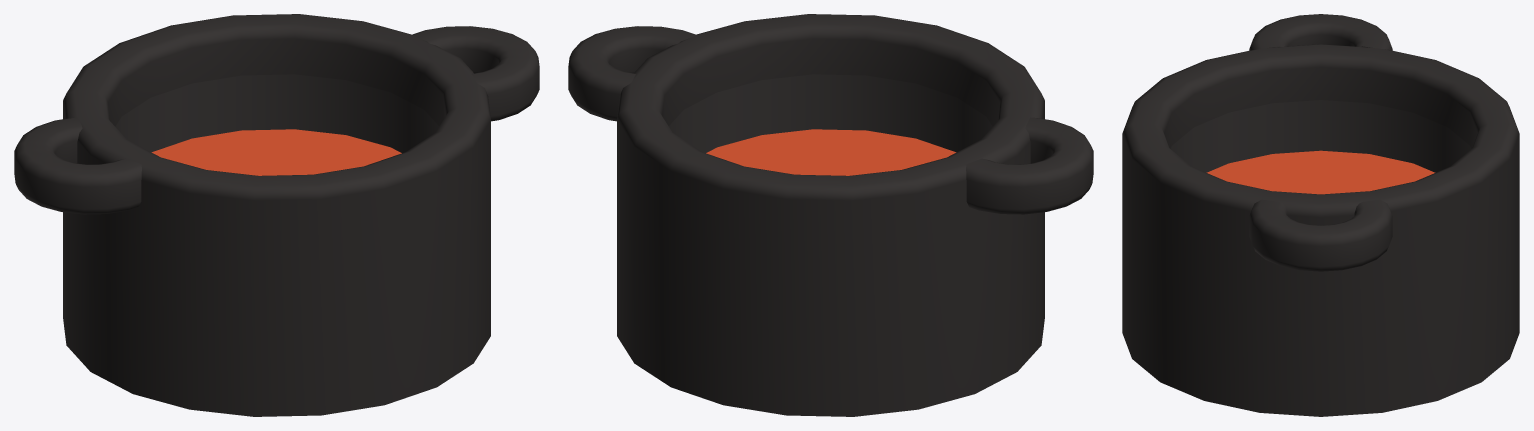
Rendered from Hole.fbx.
3 renders of one model, left to right at view 1: azimuth 30°, elevation 25°; view 2: azimuth 150°, elevation 25°; view 3: azimuth 270°, elevation 25°, orthographic. The views are drawn at different scales.
Visible parts, largest first — view 1: Hole; view 2: Hole; view 3: Hole.
Part boxes in pixels (x1,y1,x2,y2): Hole: [14, 14, 539, 416]; Hole: [568, 14, 1093, 416]; Hole: [1122, 14, 1519, 416].
Size of the model in its own units: 2.71 by 1.16 by 2.
1 material, 1 textured.
